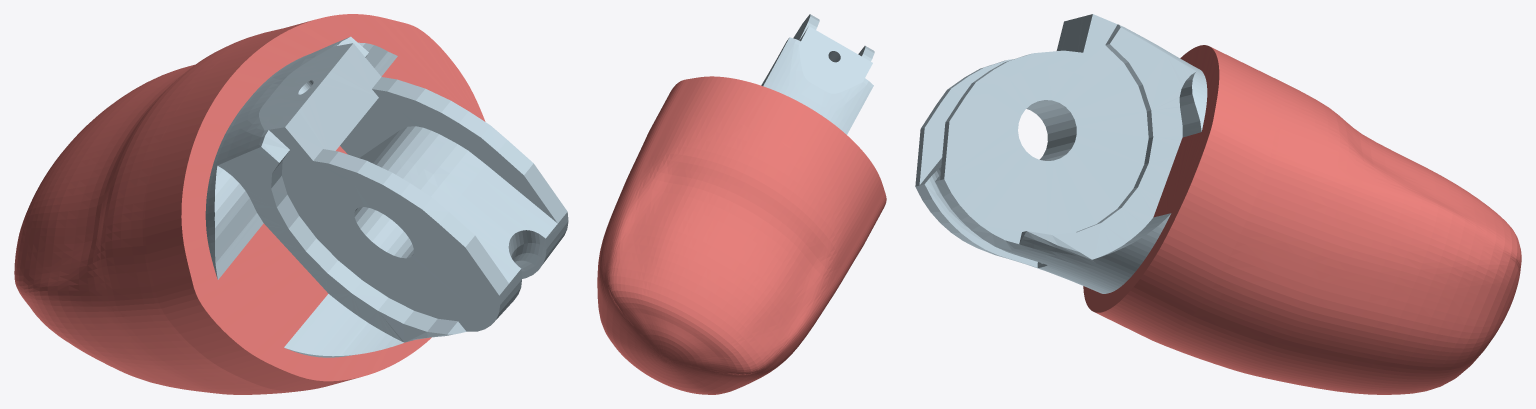
The model's file is i02_rightHand_indexTip_visual.obj.full.glb.
3 renders of one model, left to right at view 1: azimuth 30°, elevation 25°; view 2: azimuth 150°, elevation 25°; view 3: azimuth 270°, elevation 25°, orthographic. The views are drawn at different scales.
Size of the model in its own units: 0.189 by 0.2409 by 0.3548.
